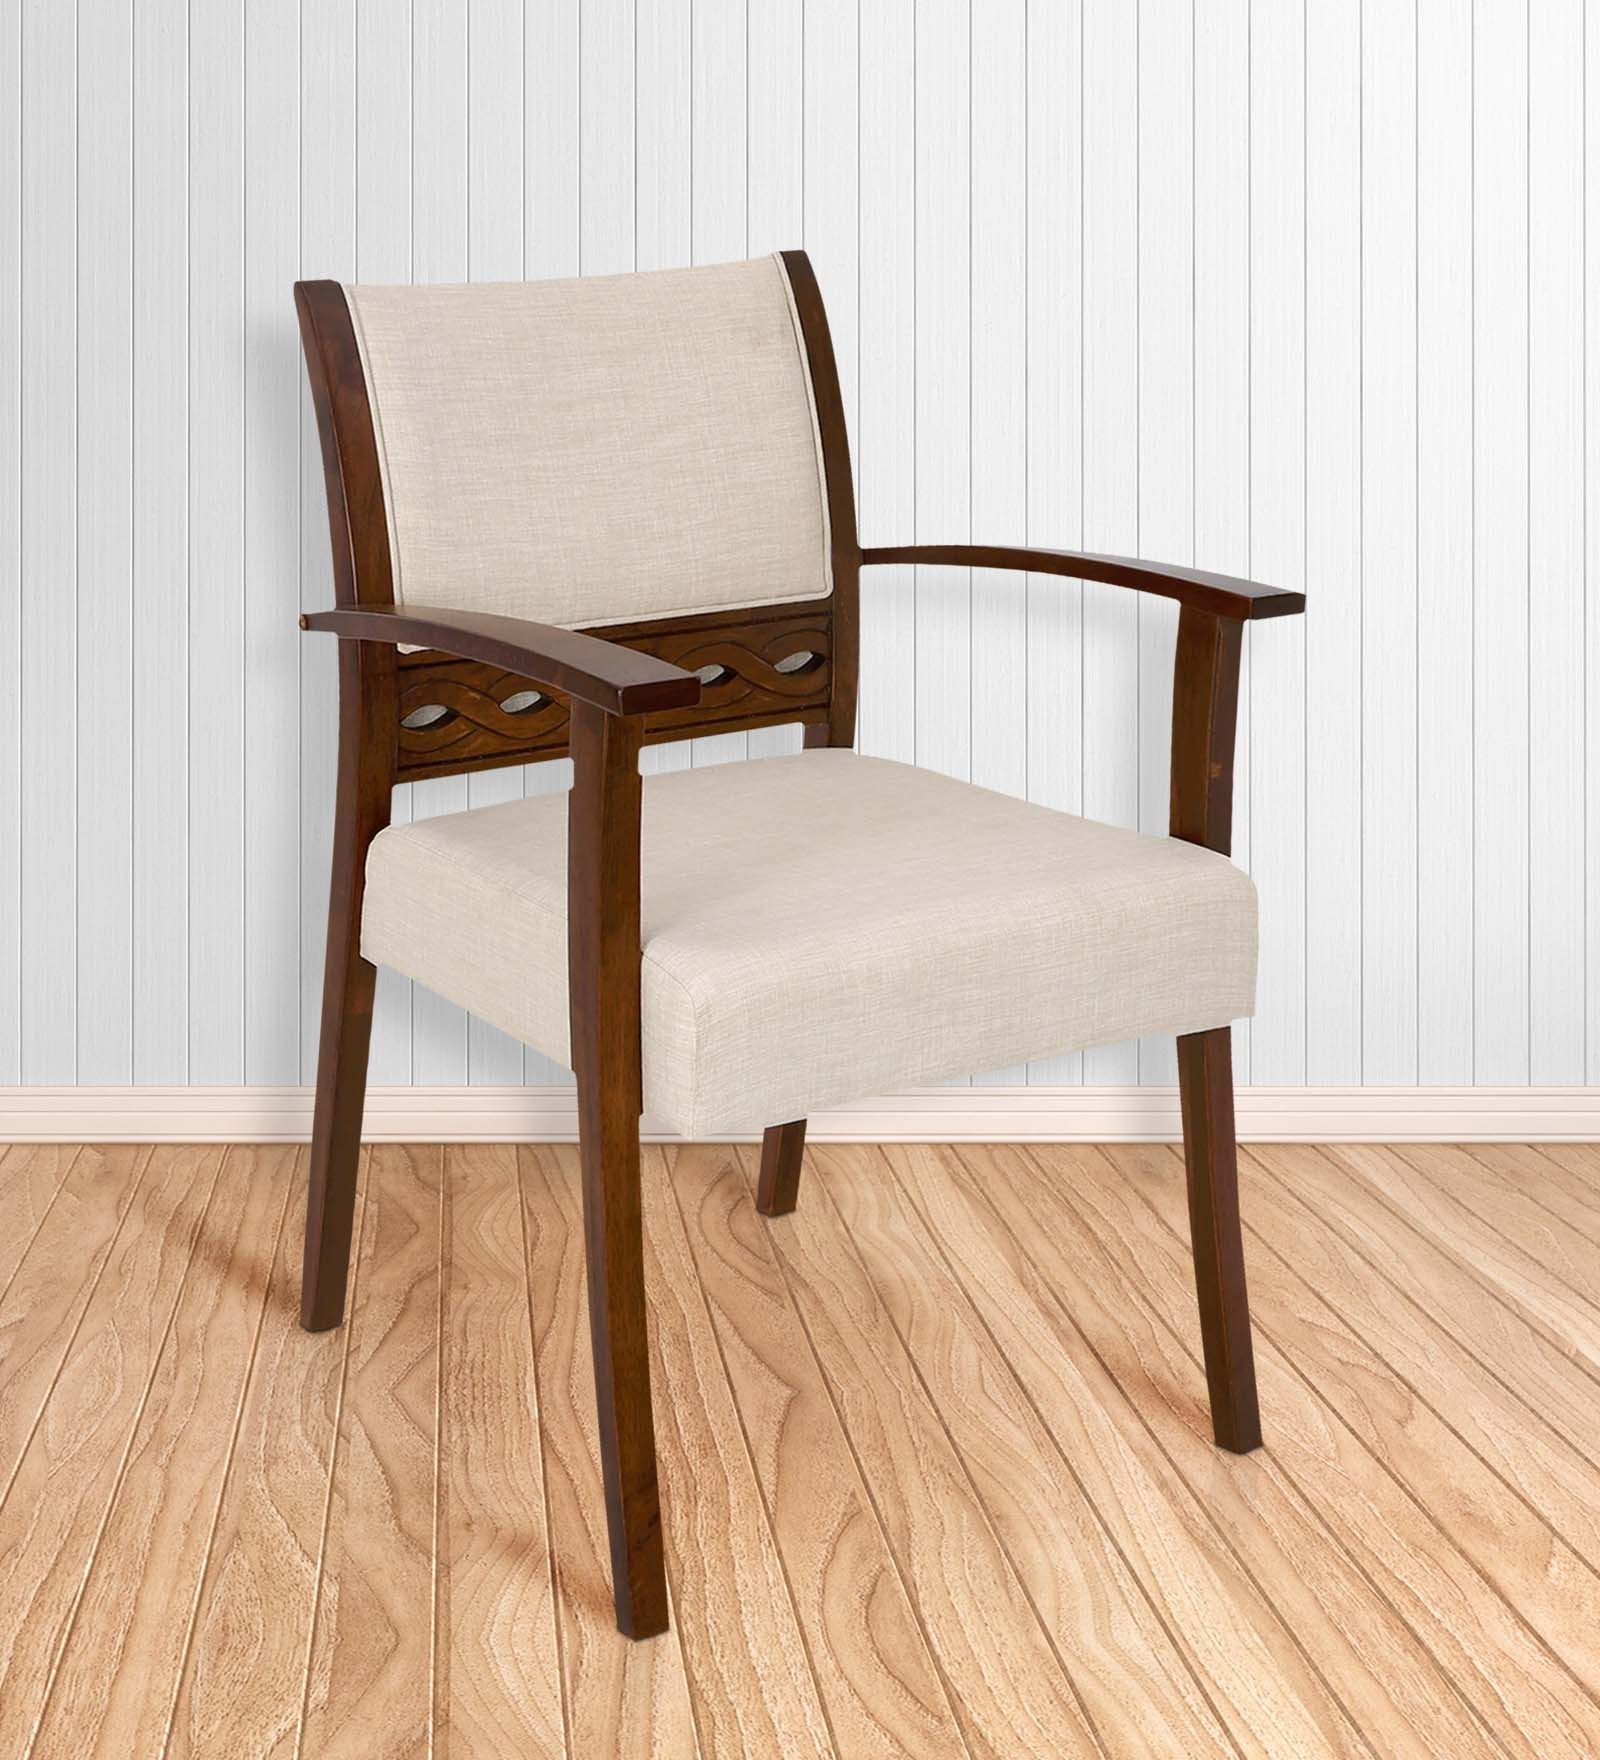Zinnia Arm Chair in Beige Colour by @ Home: (199, 210, 1349, 1660)
